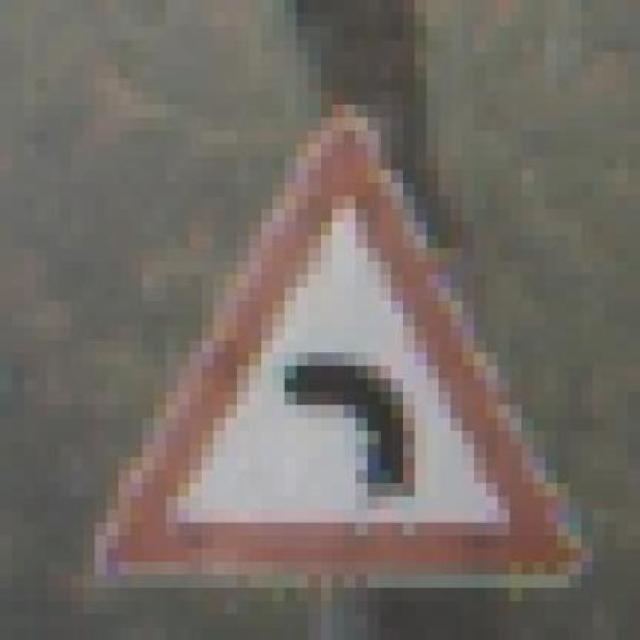Dangerous Left Curve Ahead: (71, 105, 592, 588)
